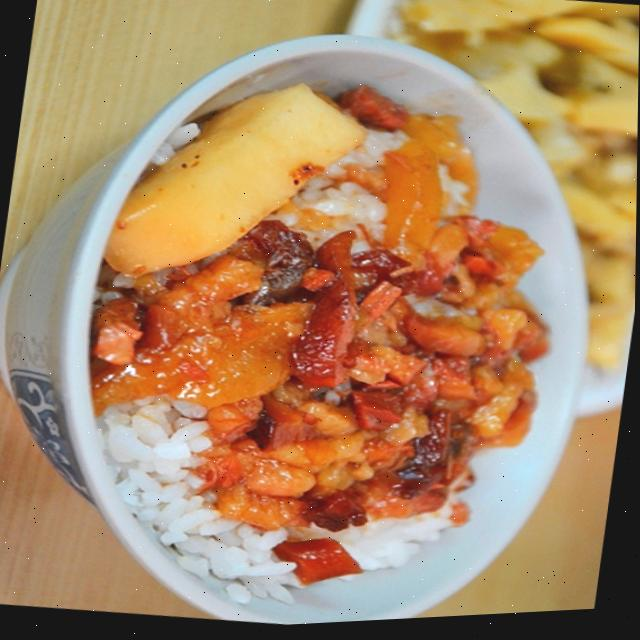猪肉菜式: (29, 31, 606, 639)
